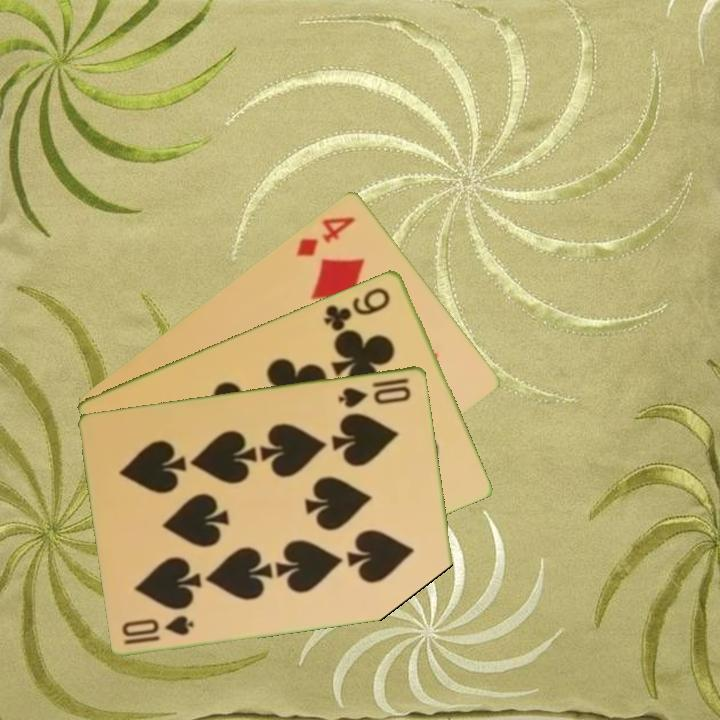10s: (335, 374, 414, 410), (119, 611, 198, 647)
4d: (292, 212, 358, 259)
9c: (320, 283, 393, 333)
